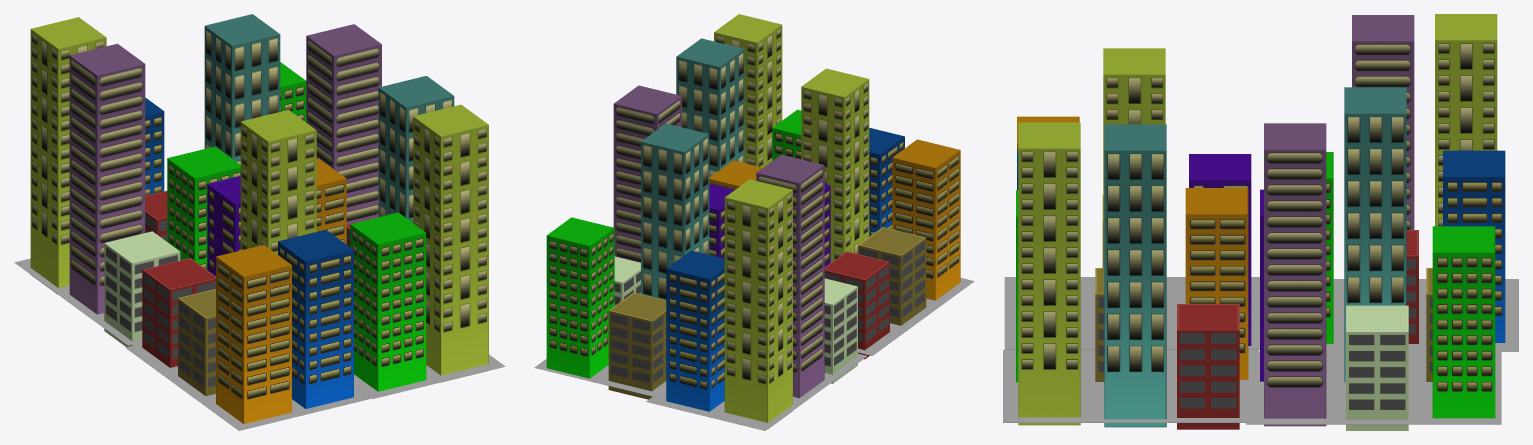
The model's file is predio4.fbx.
3 renders of one model, left to right at view 1: azimuth 30°, elevation 25°; view 2: azimuth 150°, elevation 25°; view 3: azimuth 270°, elevation 25°, orthographic. The views are drawn at different scales.
Parts seen in each view (by area): view 1: polySurface47, polySurface65, polySurface61 (×2), polySurface34, polySurface63 (×2), predios3:polySurface31, polySurface66, polySurface37, polySurface64, polySurface28, polySurface40, polySurface62 (+8 smaller); view 2: polySurface66, polySurface63 (×2), polySurface43, polySurface64, polySurface61 (×2), polySurface42, polySurface65, polySurface34, polySurface28, polySurface47, polySurface58, polySurface62 (+9 smaller); view 3: polySurface28, polySurface47, polySurface61, polySurface63, polySurface43, polySurface66, polySurface39, polySurface59, polySurface57, polySurface42, polySurface15, polySurface65 (+12 smaller).
Boxes of the visible parts, box(x1,y1,x2,y2) form: polySurface47: box(413, 104, 488, 382); polySurface65: box(69, 43, 145, 314); polySurface61 (×2): box(104, 24, 381, 347); polySurface34: box(216, 245, 291, 423); polySurface63 (×2): box(178, 14, 280, 396); predios3:polySurface31: box(350, 212, 426, 391); polySurface66: box(30, 17, 106, 294); polySurface37: box(278, 229, 353, 408); polySurface64: box(240, 110, 316, 254); polySurface28: box(378, 76, 454, 222); polySurface40: box(167, 146, 240, 269); polySurface62: box(142, 258, 215, 367); polySurface66: box(724, 179, 792, 428); polySurface63 (×2): box(641, 123, 926, 325); polySurface43: box(546, 217, 614, 378); polySurface64: box(801, 68, 869, 262); polySurface61 (×2): box(613, 85, 857, 383); polySurface42: box(666, 250, 724, 411); polySurface65: box(756, 154, 824, 398); polySurface34: box(892, 139, 960, 300); polySurface28: box(676, 38, 744, 177); polySurface47: box(714, 14, 782, 167); polySurface58: box(608, 292, 666, 399); polySurface62: box(824, 251, 889, 359); polySurface28: box(1104, 124, 1166, 427); polySurface47: box(1018, 122, 1080, 425); polySurface61: box(1264, 123, 1326, 426); polySurface63: box(1344, 87, 1406, 382); polySurface43: box(1432, 226, 1495, 418); polySurface66: box(1435, 14, 1497, 226); polySurface39: box(1185, 188, 1248, 379); polySurface59: box(1346, 305, 1408, 430); polySurface57: box(1177, 304, 1239, 429); polySurface42: box(1443, 150, 1505, 342); polySurface15: box(1246, 351, 1501, 424); polySurface65: box(1352, 15, 1414, 229).
Bounding box in the file's own units: 8.24 × 7.3 × 12.19.
